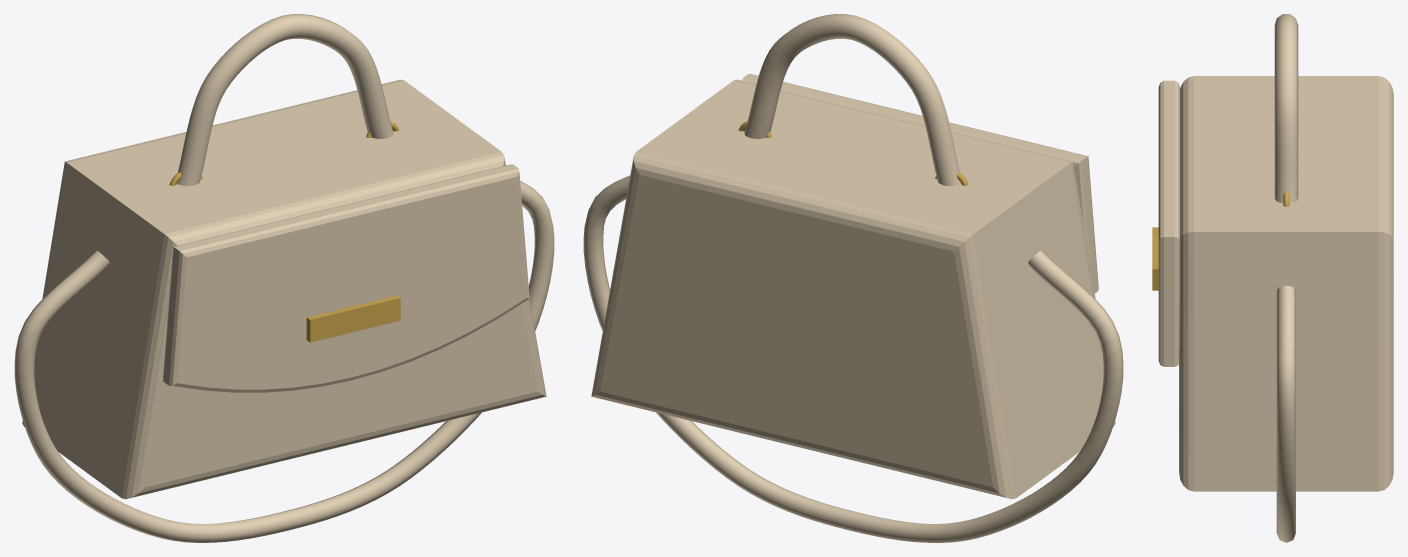
File: bolso-beige.glb
The picture shows the model from 3 angles, left to right: view 1: azimuth 30°, elevation 25°; view 2: azimuth 150°, elevation 25°; view 3: azimuth 270°, elevation 25°; orthographic projection. The views are drawn at different scales.
Bounding box in the file's own units: 0.2737 × 0.2497 × 0.1125.
